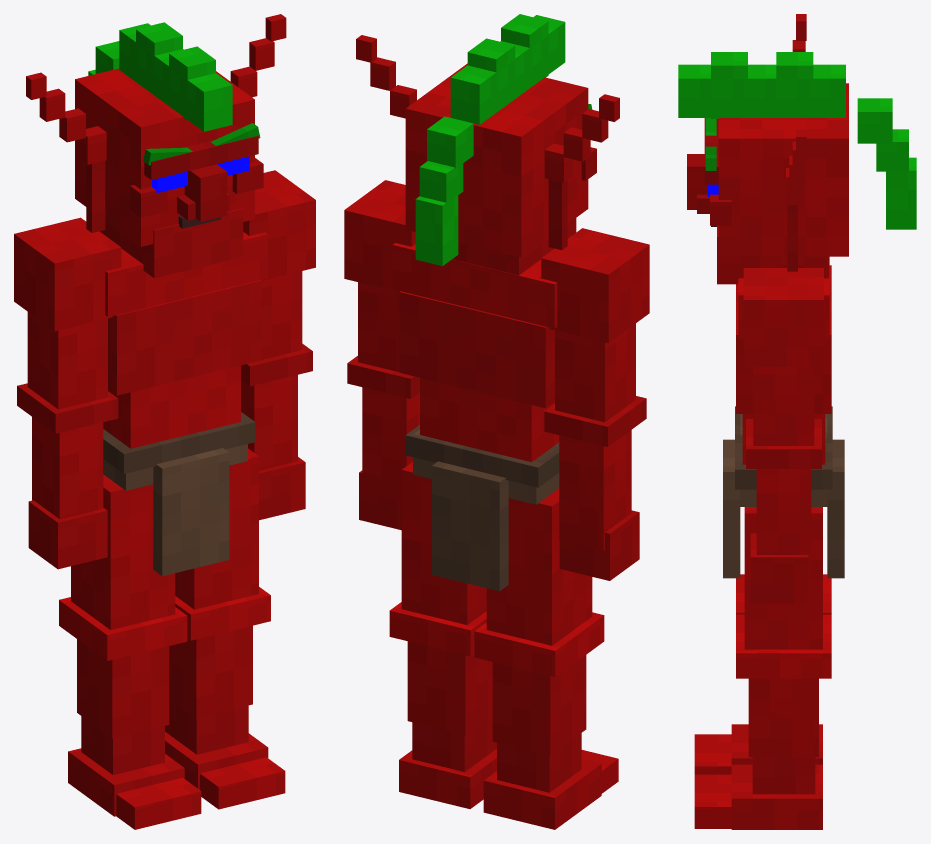
Rendered from elf_s2.glb.
3 views of the same model, side by side, from view 1: azimuth 30°, elevation 25°; view 2: azimuth 150°, elevation 25°; view 3: azimuth 270°, elevation 25° (orthographic). The views are drawn at different scales.
Visible parts, largest first — view 1: Head, Torso, LegR, ArmR, LegL, ArmL; view 2: Torso, Head, LegR, ArmR, LegL, ArmL; view 3: Head, LegL, ArmL, Torso, LegR.
Part boxes in pixels (x1,y1,x2,y2): Head: [26, 14, 286, 278]; Torso: [103, 232, 267, 576]; LegR: [59, 474, 201, 829]; ArmR: [14, 217, 121, 569]; LegL: [165, 448, 285, 809]; ArmL: [241, 170, 315, 520]; Torso: [392, 243, 559, 591]; Head: [356, 14, 619, 275]; LegR: [474, 488, 618, 829]; ArmR: [541, 228, 649, 580]; LegL: [389, 462, 496, 808]; ArmL: [344, 180, 419, 530]; Head: [678, 14, 916, 284]; LegL: [694, 507, 831, 829]; ArmL: [743, 268, 823, 603]; Torso: [723, 256, 844, 578]; LegR: [694, 574, 831, 774].
Size of the model in its own units: 0.6997 by 1.9 by 0.5585.
Materials: 19 (19 with a texture image).
